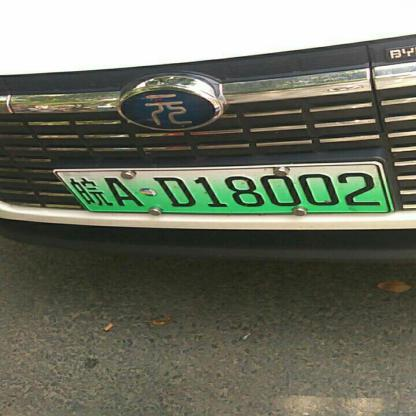lp: (57, 165, 88, 211)
